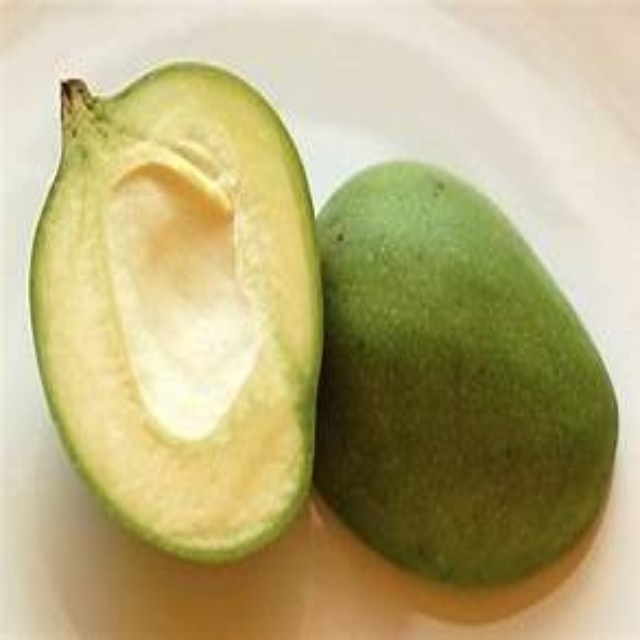mango: (29, 63, 327, 559), (314, 160, 616, 583)
